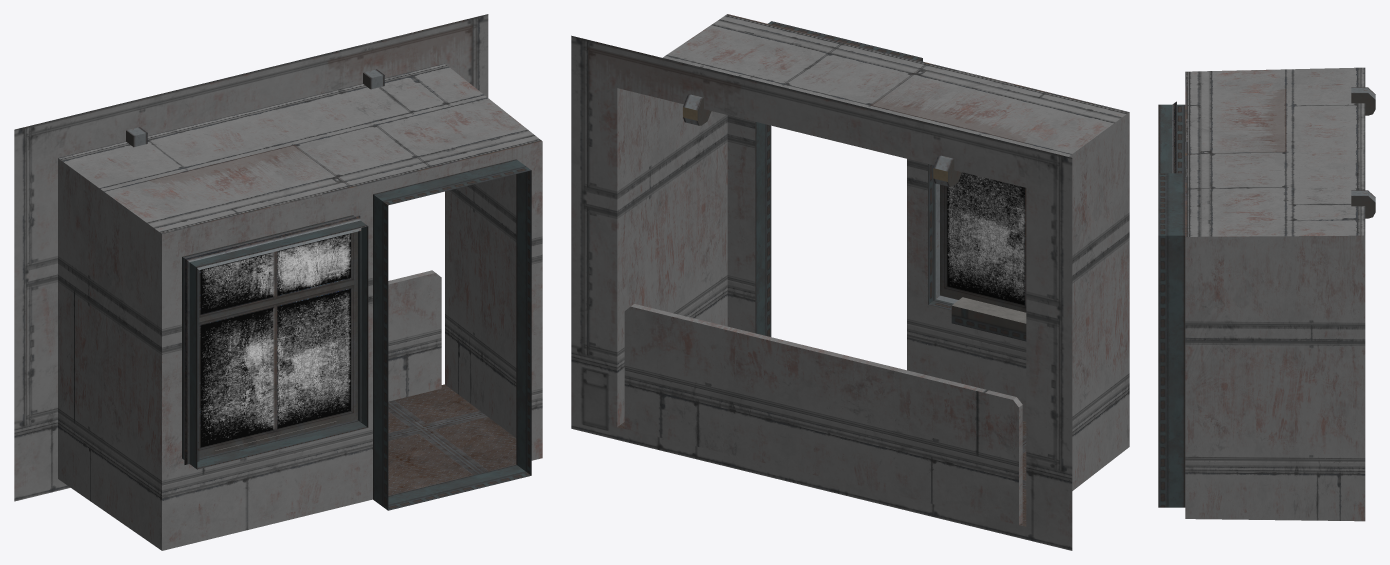
Rendered from ARC0910208.fbx.
3 views of the same model, side by side, from view 1: azimuth 30°, elevation 25°; view 2: azimuth 150°, elevation 25°; view 3: azimuth 270°, elevation 25° (orthographic). The views are drawn at different scales.
Parts seen in each view (by area): view 1: smARC0910208; view 2: smARC0910208; view 3: smARC0910208.
Part boxes in pixels (x1,y1,x2,y2): smARC0910208: (14,14,542,550); smARC0910208: (571,14,1129,550); smARC0910208: (1158,67,1375,521).
Bounding box in the file's own units: 400 × 300 × 179.
Materials: 1 (1 with a texture image).
